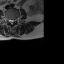CCS_normal: (11, 18, 12, 26)
LFS_normal: (14, 18, 16, 23)
LLS_normal: (12, 18, 14, 24)
RFS_normal: (6, 18, 9, 24)
RLS_normal: (9, 18, 10, 23)
